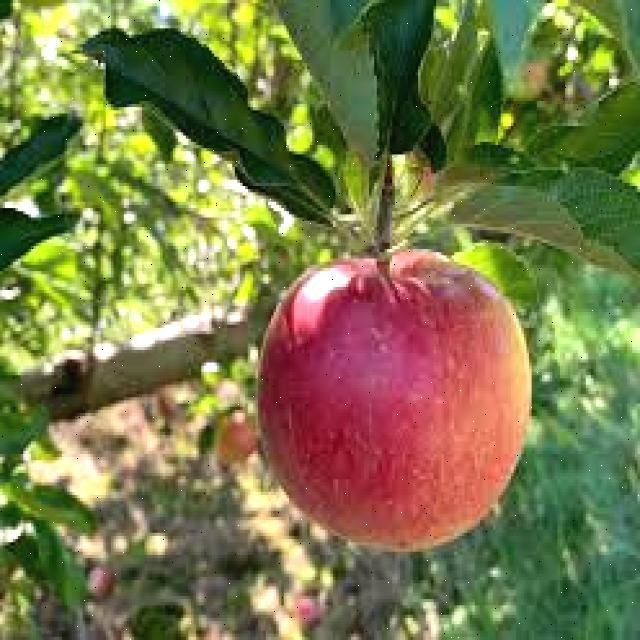apple: (218, 220, 580, 579), (194, 397, 266, 471)
